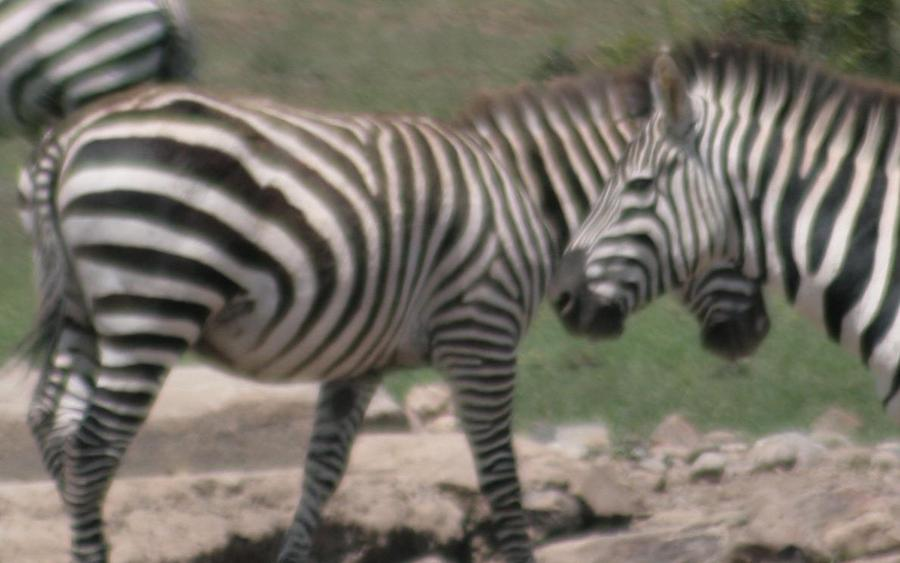zebra_plains: (26, 51, 565, 421)
